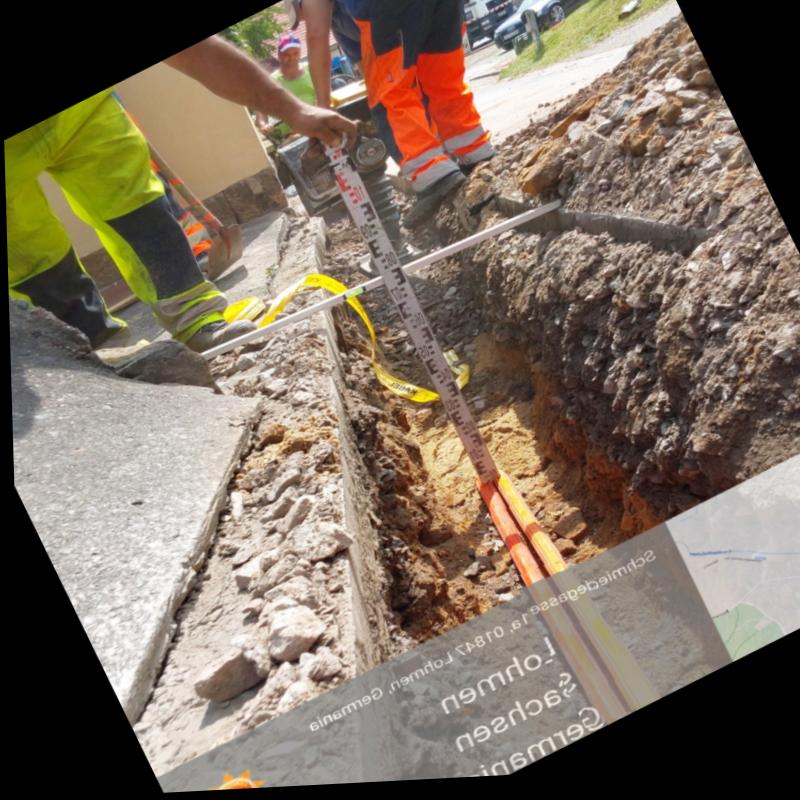Orang-Speednetrohrchen: (470, 485, 646, 734)
